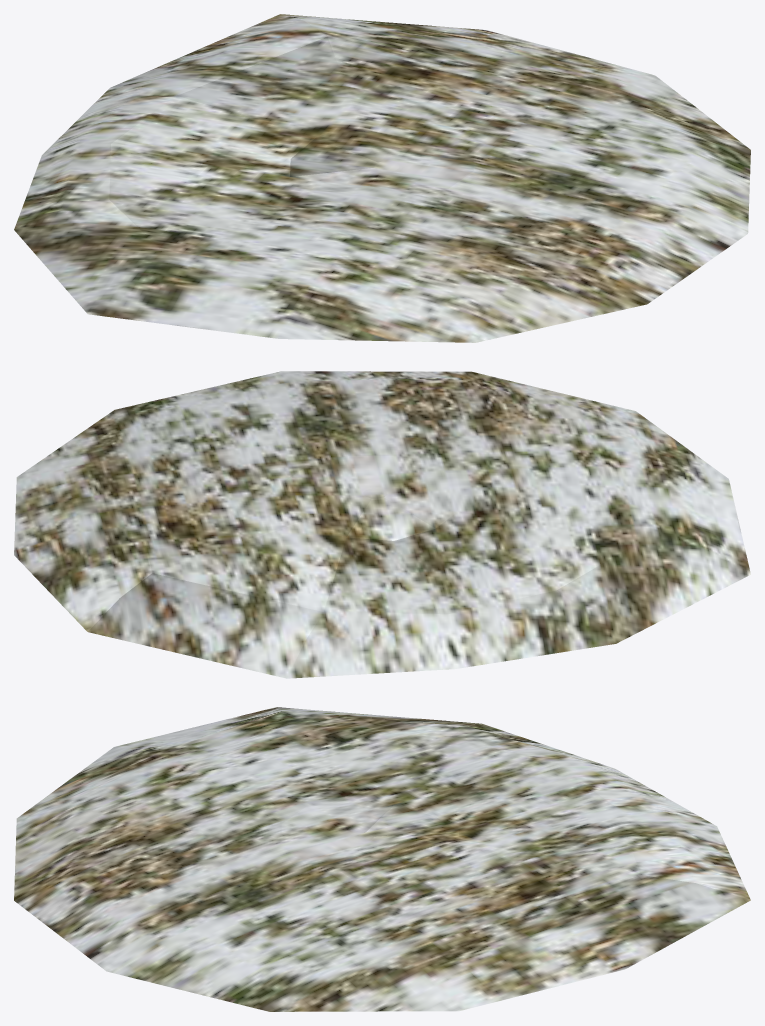
File: Castle_TerrainField.obj
3 renders of one model, top to bottom at view 1: azimuth 30°, elevation 25°; view 2: azimuth 150°, elevation 25°; view 3: azimuth 270°, elevation 25°, orthographic. The views are drawn at different scales.
Visible parts, largest first — view 1: Scene.001; view 2: Scene.001; view 3: Scene.001.
Part boxes in pixels (left/top/right/bottom): Scene.001: left=14, top=14, right=750, bottom=342; Scene.001: left=14, top=371, right=750, bottom=678; Scene.001: left=14, top=707, right=750, bottom=1011.
Bounding box in the file's own units: 84.91 × 4.49 × 84.77.
